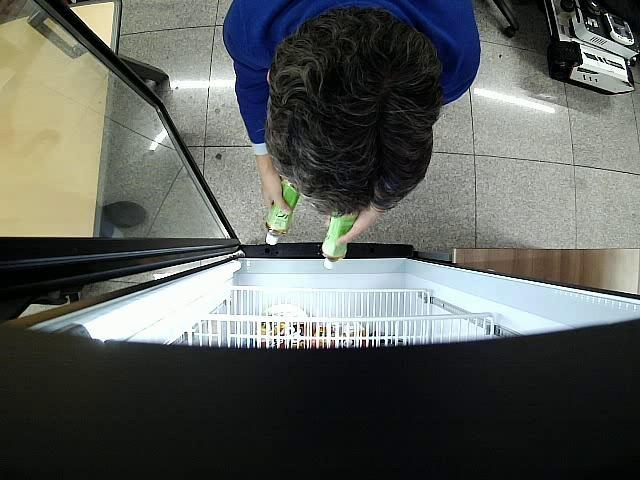19_17cha: (266, 180, 300, 245), (322, 210, 357, 270)
